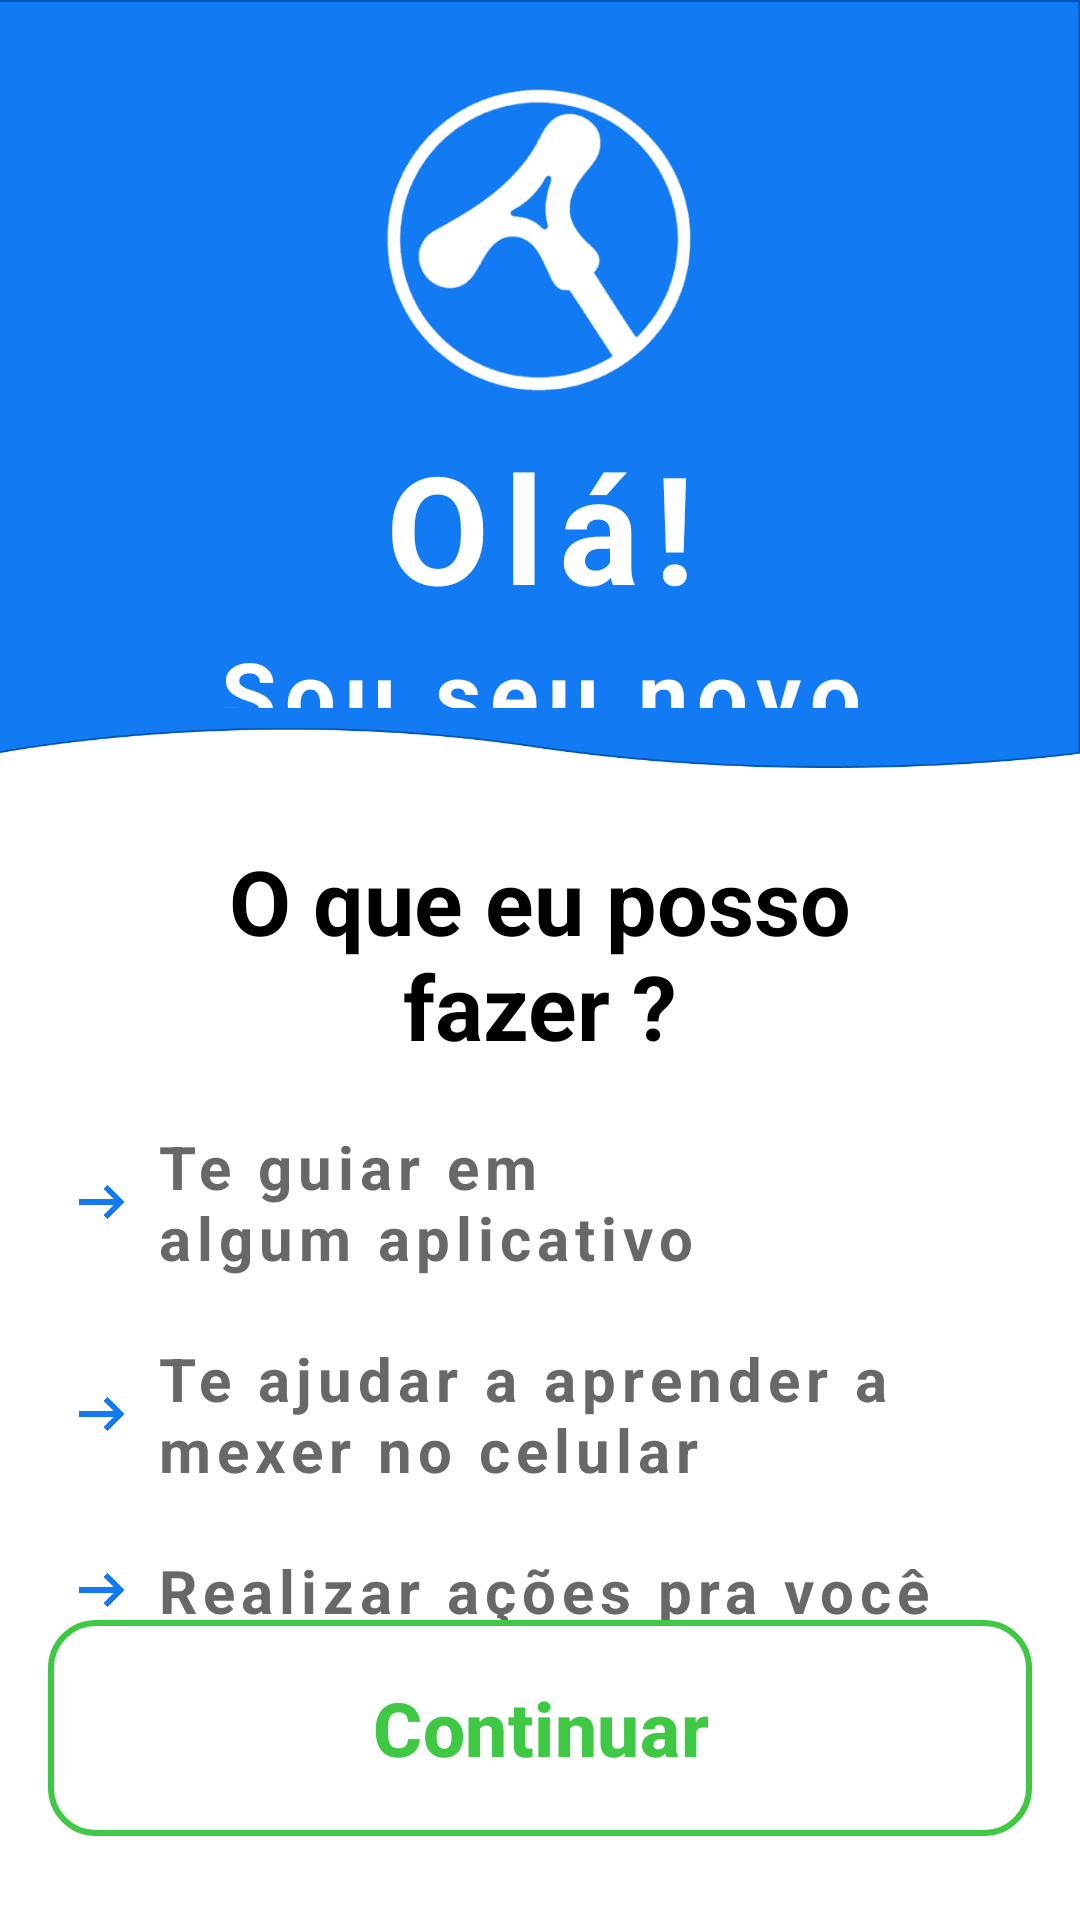

Where to tap for icons on this 1080*1920 app screen, as [x,y]:
seta: [101,1202], [101,1414], [101,1590]
